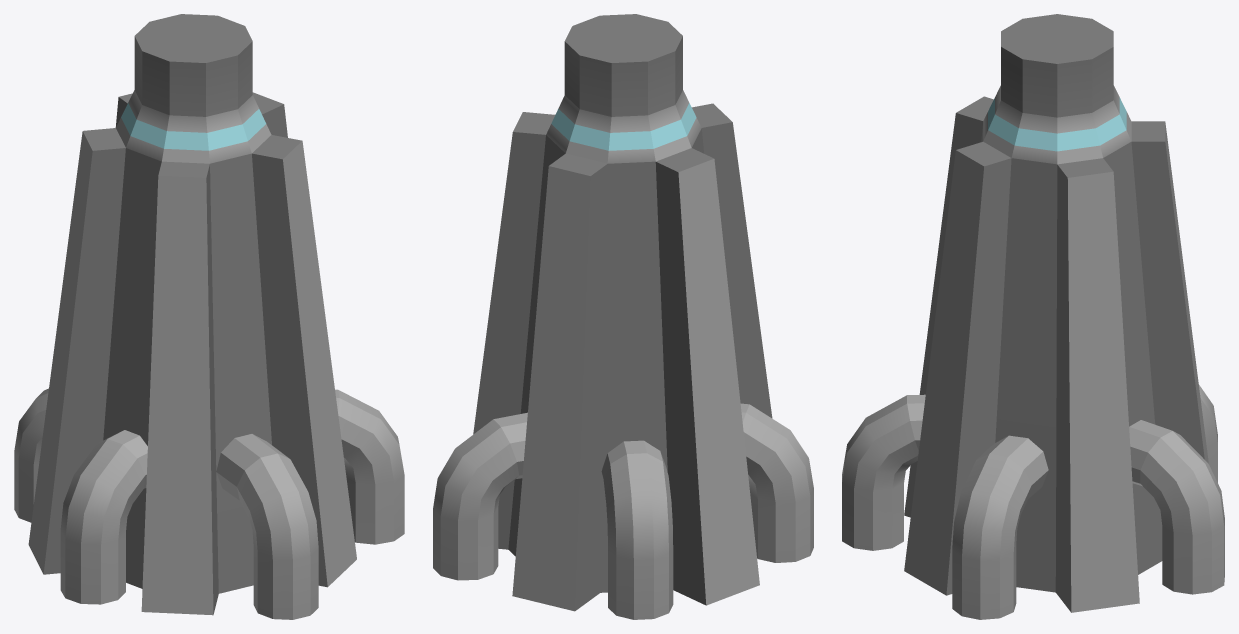
Rendered from CannonTower.fbx.
3 views of the same model, side by side, from view 1: azimuth 30°, elevation 25°; view 2: azimuth 150°, elevation 25°; view 3: azimuth 270°, elevation 25° (orthographic).
Parts seen in each view (by area): view 1: CannonTower; view 2: CannonTower; view 3: CannonTower.
Boxes of the visible parts, bbox=[...] form: CannonTower: bbox=[14, 14, 404, 619]; CannonTower: bbox=[433, 14, 813, 619]; CannonTower: bbox=[842, 14, 1224, 619].
Bounding box in the file's own units: 4.84 × 7.14 × 4.91.
